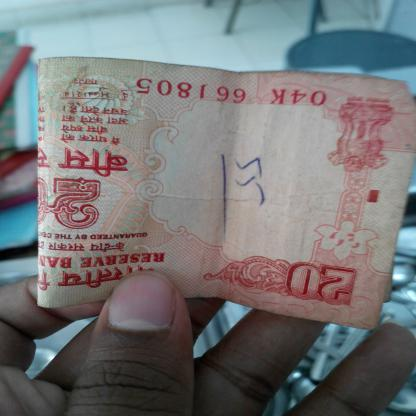Old20Front: (36, 58, 396, 308)
